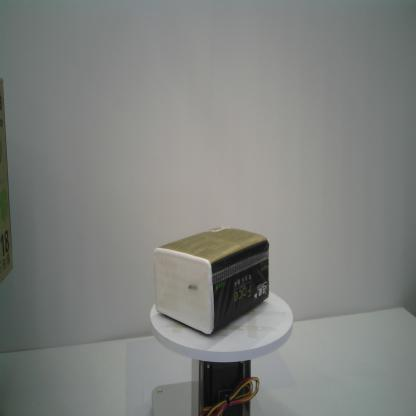Tissue: (152, 226, 270, 336)
